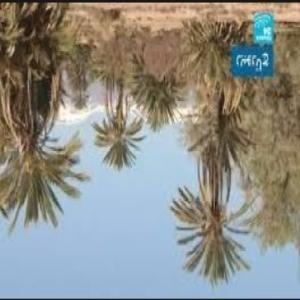palm tree: (0, 1, 93, 232)
